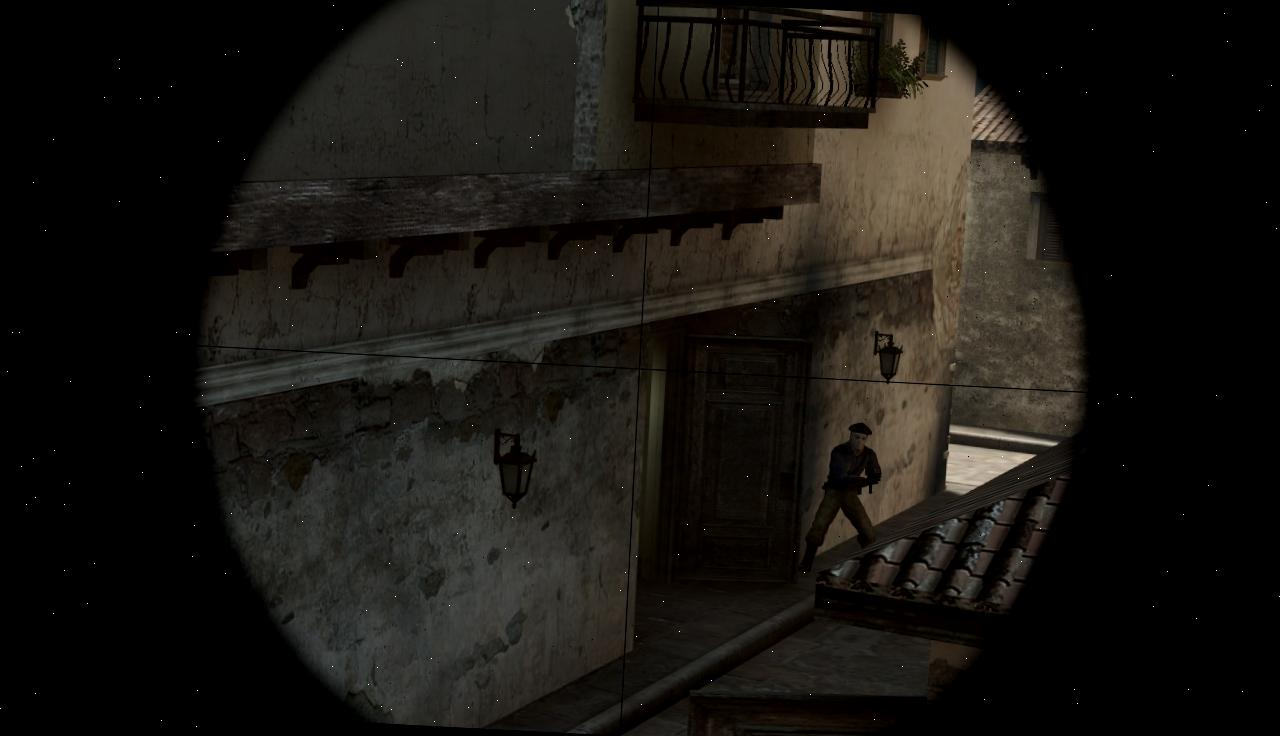tt: (802, 420, 883, 576)
tthead: (848, 422, 869, 451)
